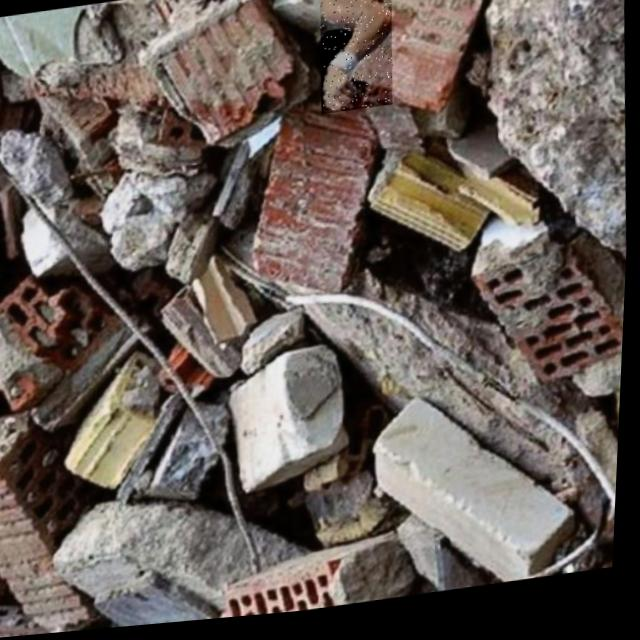Person in Rubble: (317, 0, 399, 120)
